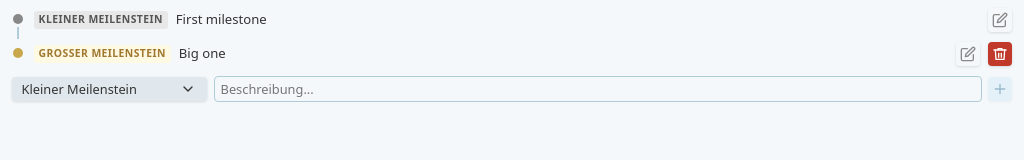
Test case: MilestoneTimeline › edit mode (readonly=false) › switches to edit mode when ✎ is clicked
The image size is (1024, 160).
Click the button with class "milestone-edit" in the row of "First milestone".
click(1000, 20)  # box [988,8,1012,32]
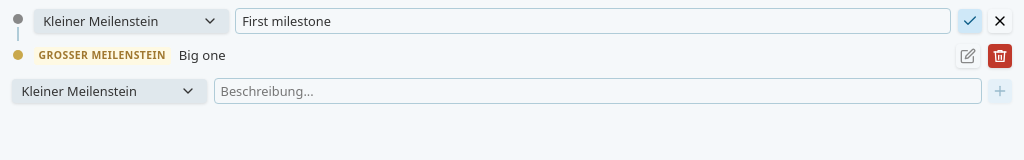
Now the element with class "timeline-content--edit" is shown, box [34,8,1012,44]
